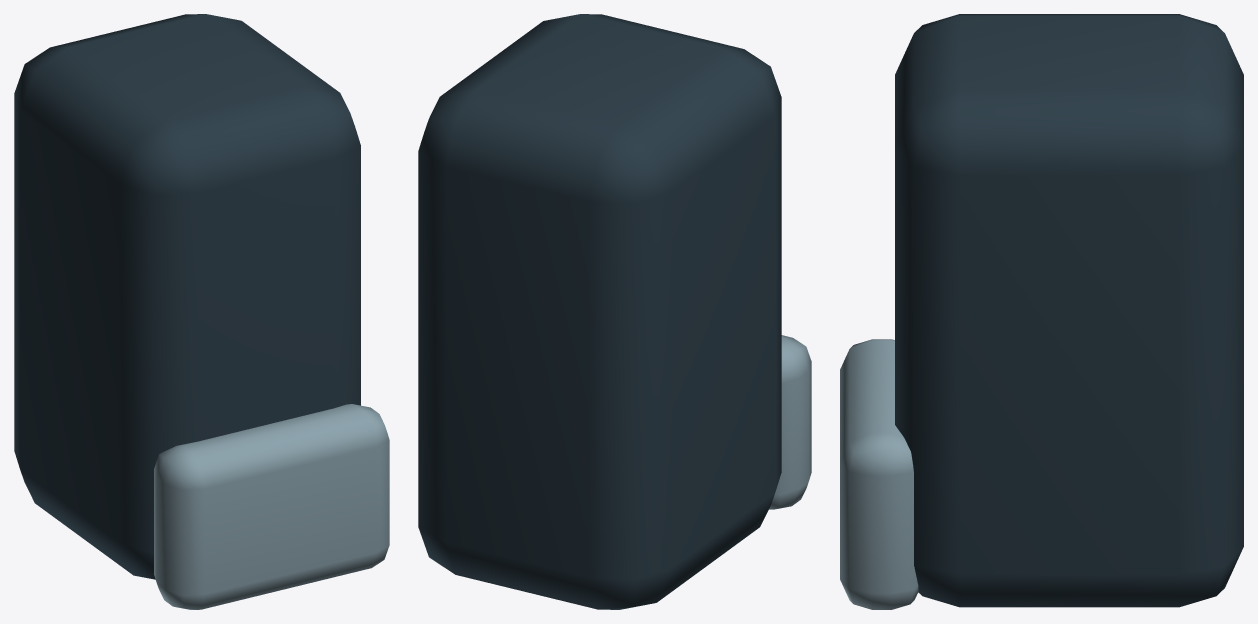
Rendered from rider_thigh.glb.
3 views of the same model, side by side, from view 1: azimuth 30°, elevation 25°; view 2: azimuth 150°, elevation 25°; view 3: azimuth 270°, elevation 25° (orthographic). The views are drawn at different scales.
Parts seen in each view (by area): view 1: Trouser leg, Knee pad; view 2: Trouser leg, Knee pad; view 3: Trouser leg, Knee pad.
Boxes of the visible parts, x1,y1,x2,y2 form: Trouser leg: (14, 14, 360, 579); Knee pad: (154, 404, 389, 609); Trouser leg: (418, 14, 781, 609); Knee pad: (769, 335, 811, 509); Trouser leg: (895, 14, 1243, 607); Knee pad: (840, 339, 918, 609).
Size of the model in its own units: 0.235 by 0.44 by 0.3125.
